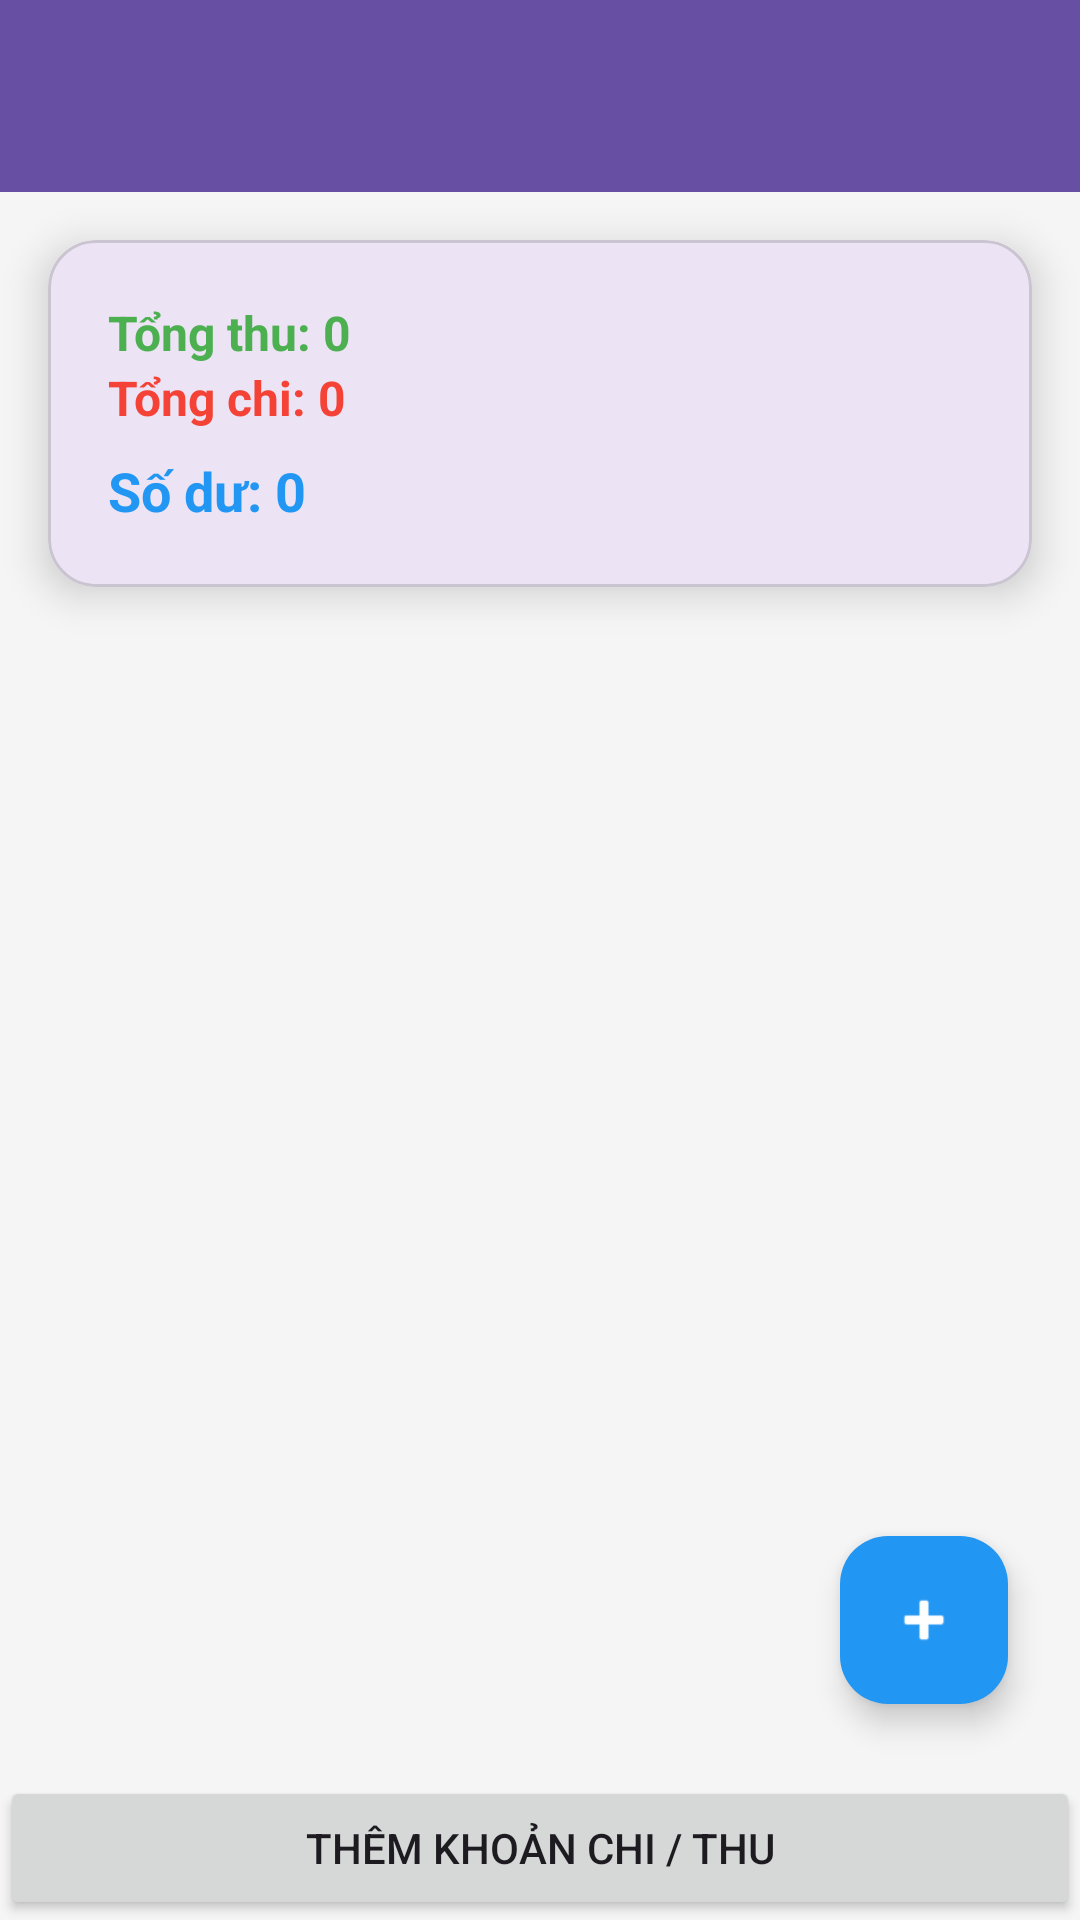

Screen size 1080px×1920px. Icon name, then its center in pixels as (x,y):
add: (924,1620)
